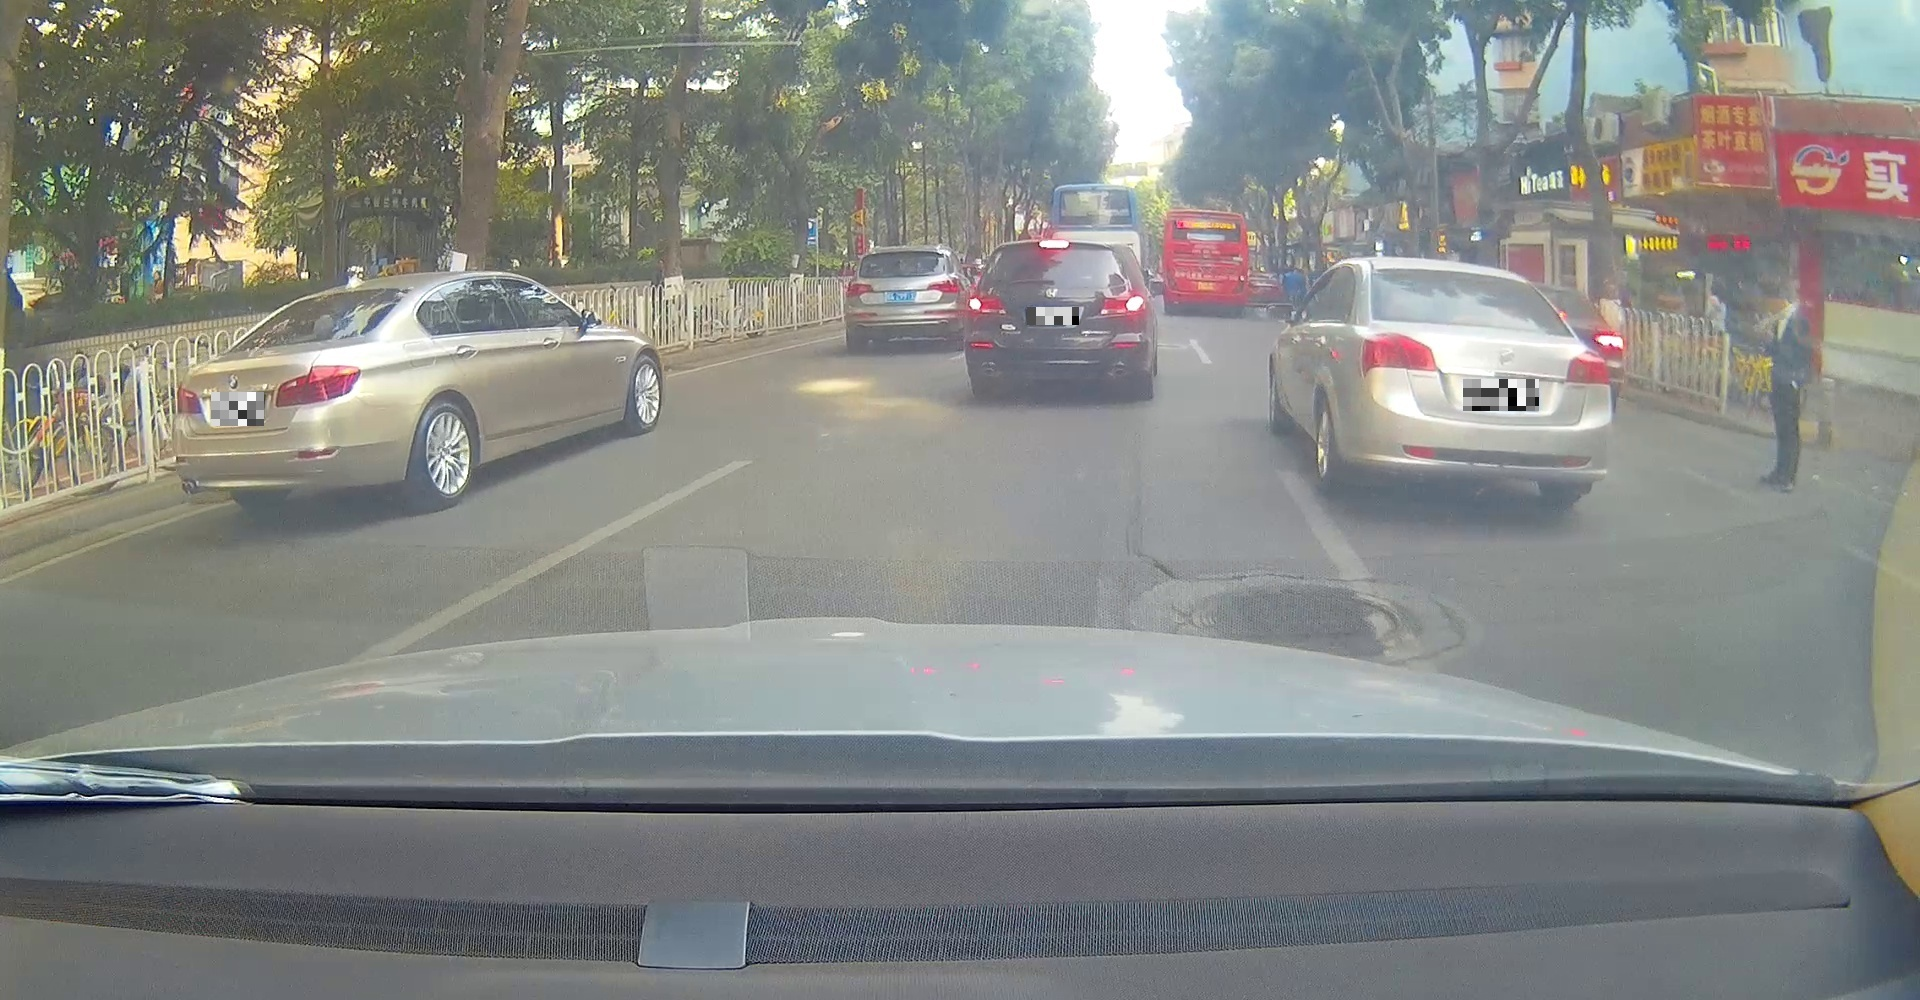L_light: (1360, 330, 1437, 377), (966, 291, 1006, 316), (177, 385, 202, 412), (844, 283, 874, 299), (1166, 272, 1178, 292)
R_light: (276, 365, 361, 407), (1564, 349, 1611, 385), (1098, 291, 1148, 316), (926, 277, 963, 293), (1233, 270, 1246, 294)
T_light: (1037, 239, 1070, 250), (1449, 272, 1481, 279), (331, 291, 357, 299), (1197, 235, 1222, 241), (900, 251, 913, 255)
day-brake: (965, 239, 1149, 398)
day-no: (1359, 258, 1613, 506), (173, 277, 418, 508), (844, 245, 964, 354)
day-right: (1161, 209, 1250, 319)
plate_1: (211, 392, 264, 426)
plate_2: (1027, 307, 1079, 325)
plate_3: (1463, 379, 1539, 411)
